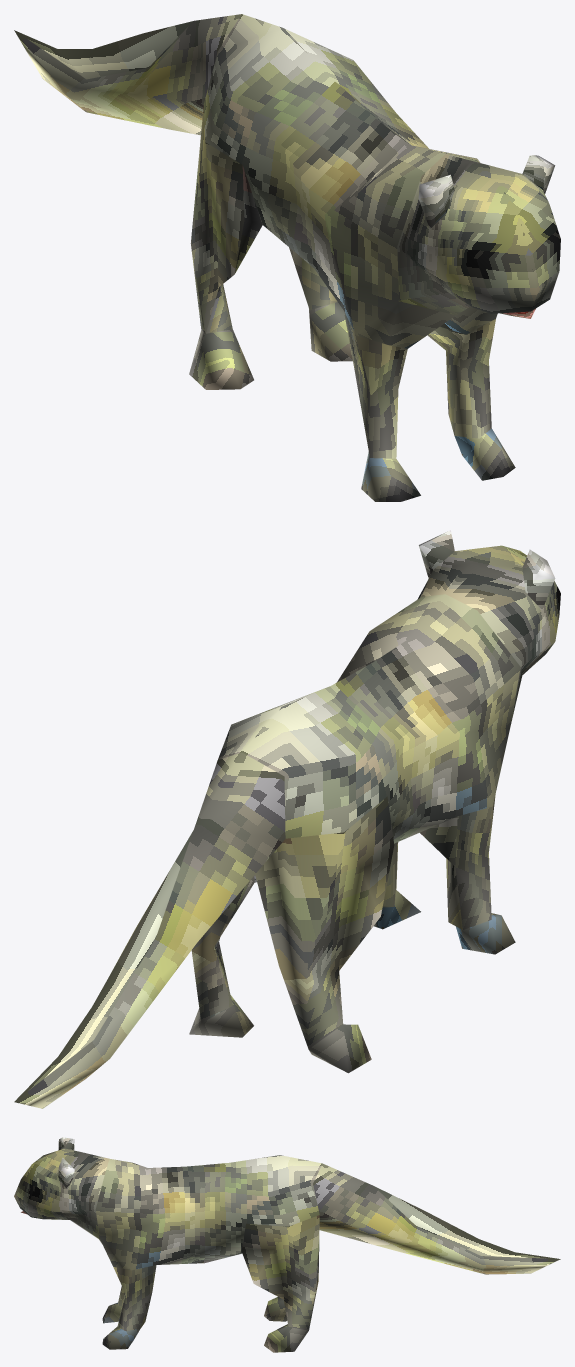
Rendered from kittle_hue_l2.fbx.
3 views of the same model, one above another, from view 1: azimuth 30°, elevation 25°; view 2: azimuth 150°, elevation 25°; view 3: azimuth 270°, elevation 25° (orthographic). The views are drawn at different scales.
Visible parts, largest first — view 1: mesh_node; view 2: mesh_node; view 3: mesh_node.
Part boxes in pixels (left/top/right/bottom): mesh_node: left=14, top=14, right=560, bottom=501; mesh_node: left=14, top=530, right=560, bottom=1108; mesh_node: left=14, top=1137, right=560, bottom=1352.
Size of the model in its own units: 0.1828 by 0.3722 by 0.9994.
